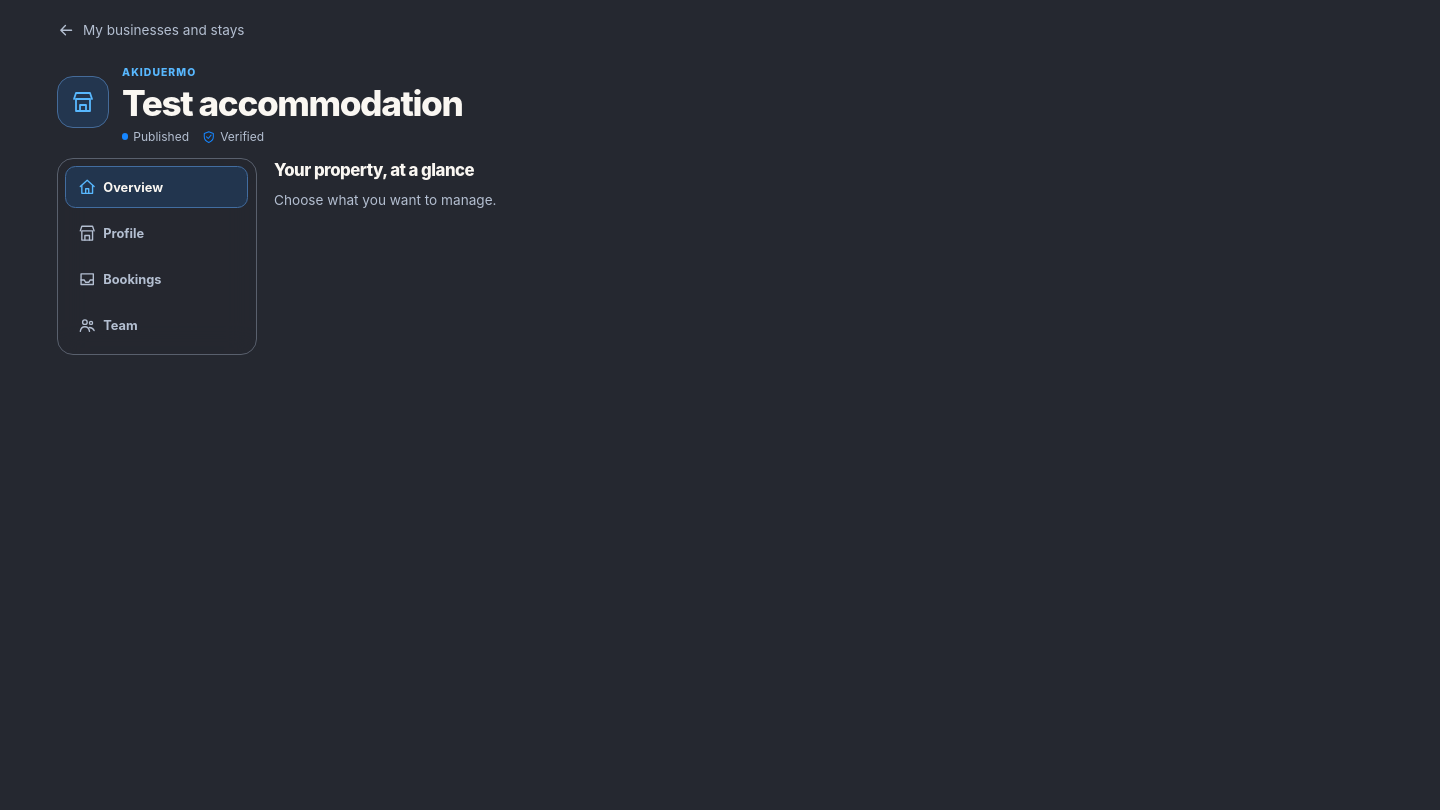
Scenario: AkiDuermo business tools › keeps accommodation-specific tools and excludes venue-only editors
The width and height of the screenshot is (1440, 810).
Click the tab "Bookings" at (156,279), box [65, 258, 248, 300]
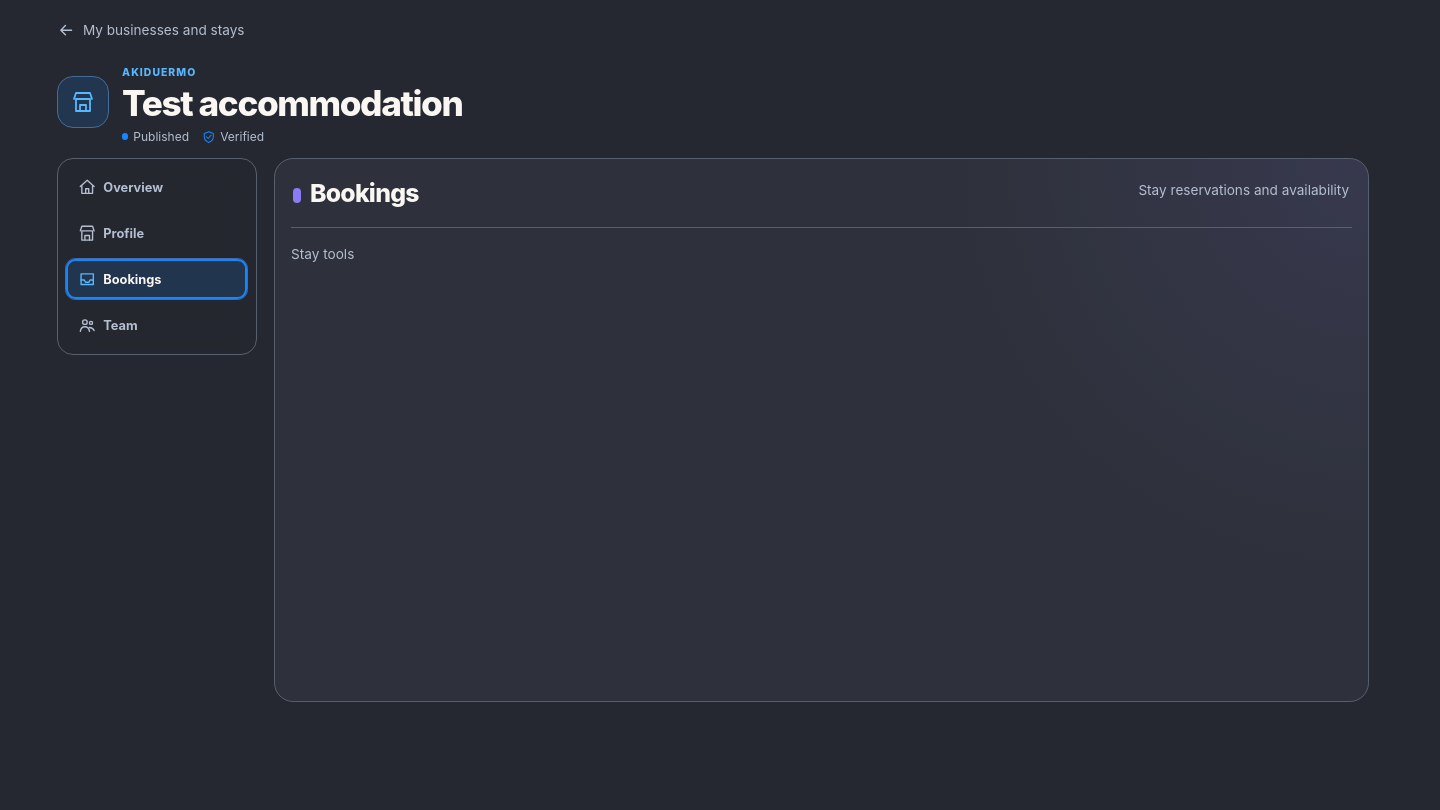
Check: the text "Stay tools" is shown, box [291, 246, 354, 262]
